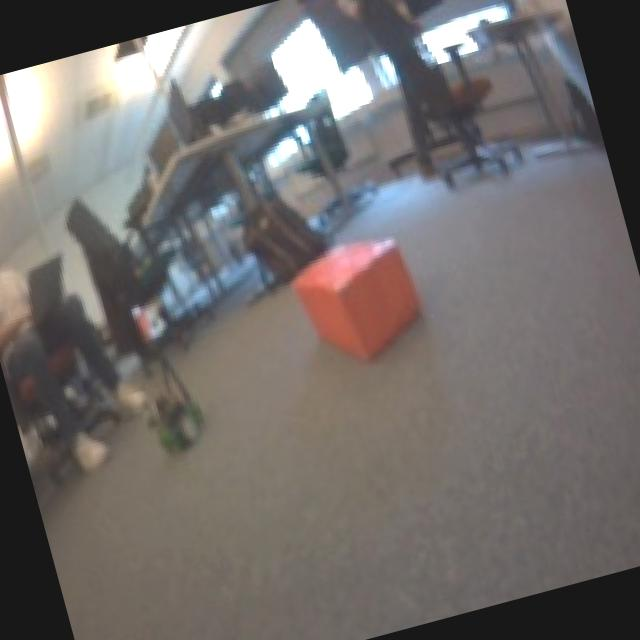robot: (140, 378, 216, 461)
target: (282, 225, 430, 375)
